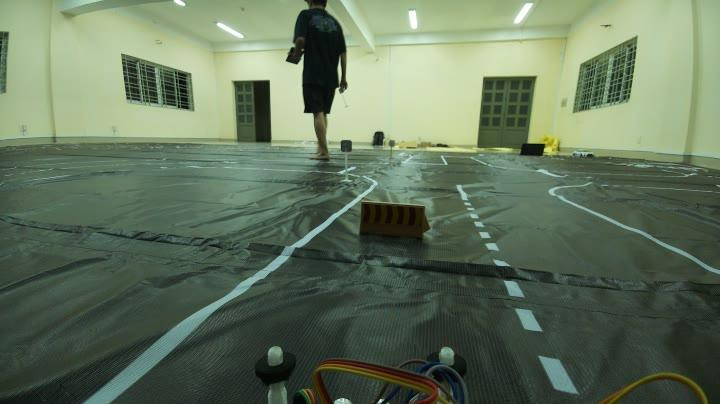roadblock: (350, 195, 437, 254)
